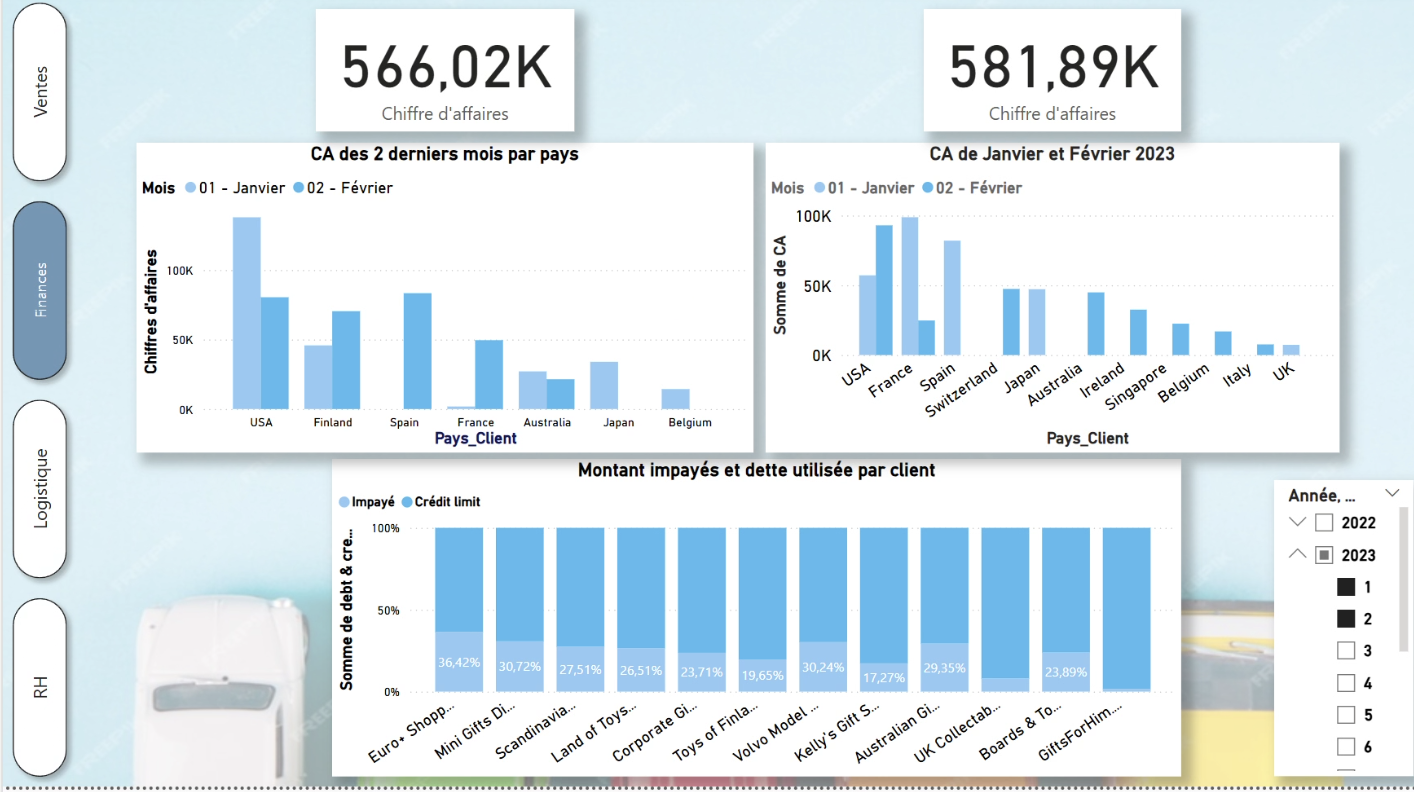

This screenshot's page, from the dashboard's own definition file:
{"tool":"powerbi","page":{"name":"Finances","canvas":[1280,720],"ordinal":1},"visuals":[{"type":"hundredPercentStackedColumnChart","title":"Montant impayés et dette utilisée par client ","fields":{"Category":["Finances2.customername"],"Y":["Sum(Finances2.debt)","Sum(Finances2.creditlimit)"]},"box":[298.1,422.4,770.2,287.9],"z":0},{"type":"clusteredColumnChart","title":"CA des 2 derniers mois par pays ","fields":{"Category":["Finances1.Pays_Client"],"Y":["Sum(Finances1.CA)"],"Series":["Finances1.Nom_Mois"]},"box":[121.6,136.2,559.3,281.1],"z":1000},{"type":"clusteredColumnChart","title":"CA de Janvier et Février 2023","fields":{"Category":["Finance 4.Pays_Client"],"Y":["Sum(Finance 4.CA)"],"Series":["Finance 4.Nom_Mois"]},"box":[691.6,136.2,520.4,281.1],"z":2000},{"type":"slicer","fields":{"Values":["Finance 4.Année","Finance 4.Mois"]},"box":[1153.6,441.6,126.4,268.4],"z":3000},{"type":"card","fields":{"Values":["Sum(Finance 4.CA)"]},"box":[835.5,14.6,233.4,110.9],"z":4000},{"type":"card","fields":{"Values":["Sum(Finances1.CA)"]},"box":[284,14.6,234.4,110.9],"z":5000},{"type":"pageNavigator","box":[0,0,67.2,720],"z":6000}]}

Visuals, with their boxes on the page's 1280x720 design canvas (x1, y1, x2, y2). These are canvas units, not pixel positions in the 1414x792 screenshot, which may show the page scaled, cropped or inside an application window:
"Montant impayés et dette utilisée par client " hundredPercentStackedColumnChart: (298, 422, 1068, 710)
"CA des 2 derniers mois par pays " clusteredColumnChart: (122, 136, 681, 417)
"CA de Janvier et Février 2023" clusteredColumnChart: (692, 136, 1212, 417)
slicer - Finance 4.Année x Finance 4.Mois: (1154, 442, 1280, 710)
card - Sum(Finance 4.CA): (836, 15, 1069, 126)
card - Sum(Finances1.CA): (284, 15, 518, 126)
pageNavigator: (0, 0, 67, 720)
